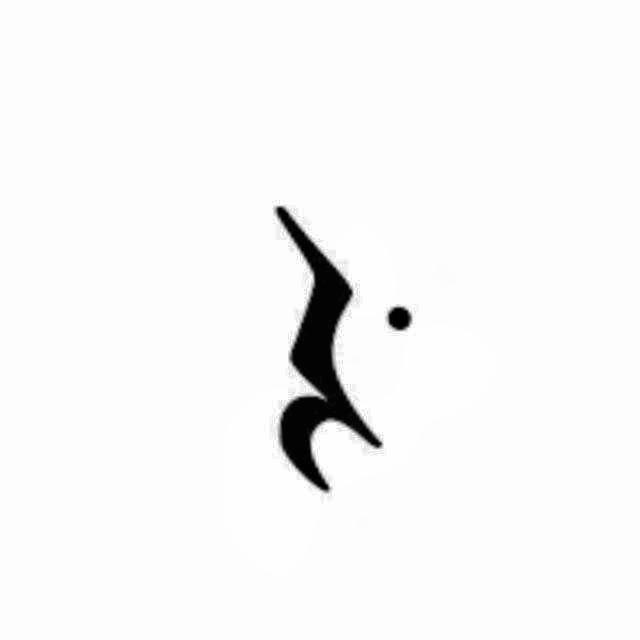Quarter-rest: (251, 198, 431, 504)
